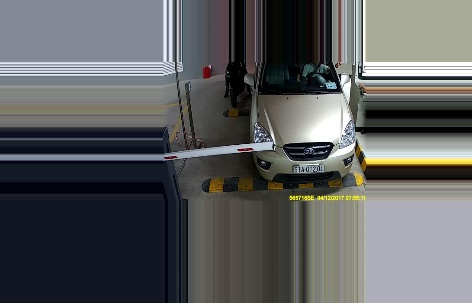plate: (293, 163, 327, 174)
